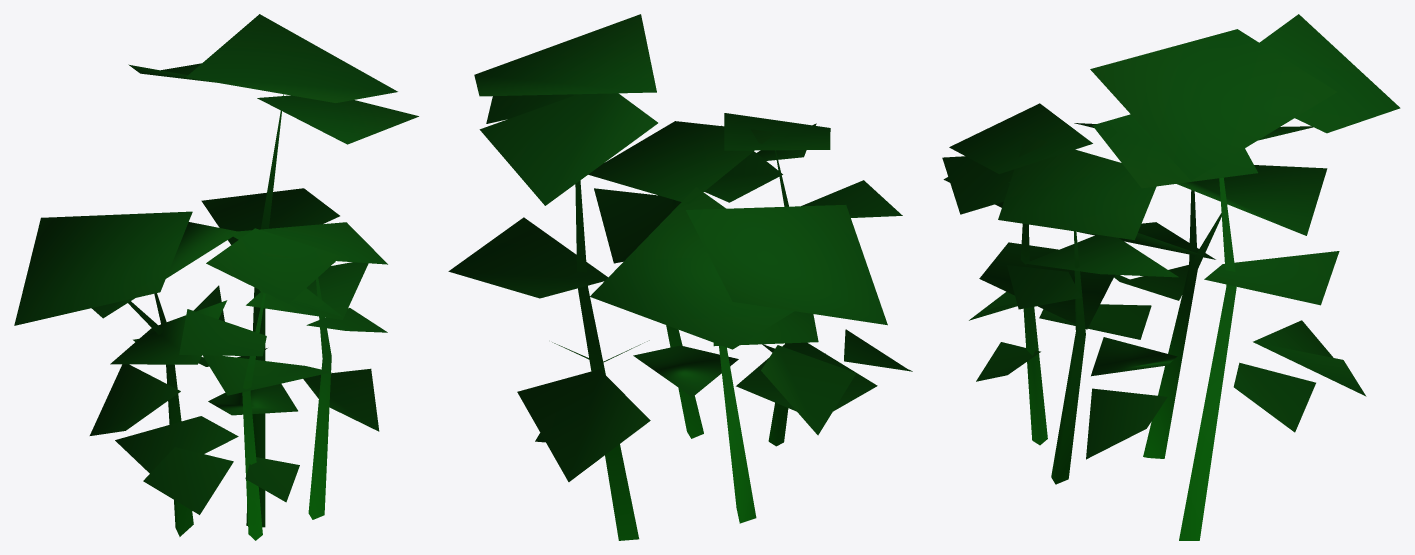
File: env_nature_foliage_padplant01_lod1.fbx
The picture shows the model from 3 angles, left to right: view 1: azimuth 30°, elevation 25°; view 2: azimuth 150°, elevation 25°; view 3: azimuth 270°, elevation 25°; orthographic projection. The views are drawn at different scales.
Parts seen in each view (by area): view 1: env_nature_foliage_padplant01_lod1; view 2: env_nature_foliage_padplant01_lod1; view 3: env_nature_foliage_padplant01_lod1.
Boxes of the visible parts, x1,y1,x2,y2 form: env_nature_foliage_padplant01_lod1: (14,14,418,540); env_nature_foliage_padplant01_lod1: (448,14,912,540); env_nature_foliage_padplant01_lod1: (942,14,1400,540).
Size of the model in its own units: 12.01 by 13.32 by 11.35.
